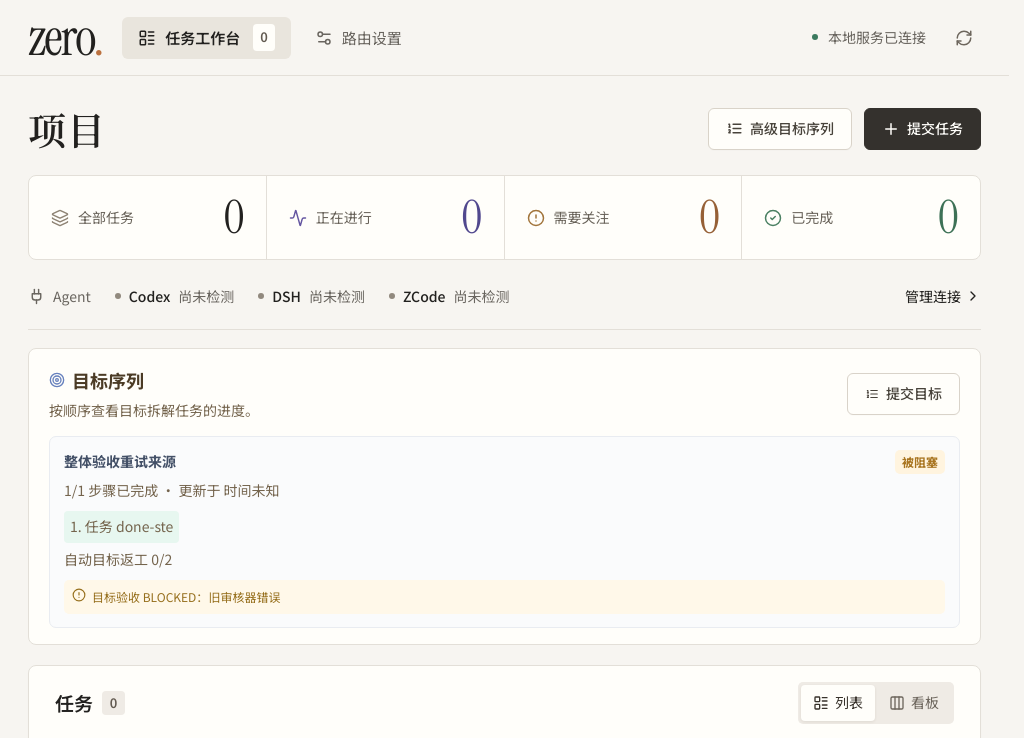
isolates concurrent retry response order: old503-first
The width and height of the screenshot is (1024, 738).
Click the button "整体验收重试来源" at (504, 532), box x1=49 y1=436 x2=960 y2=628
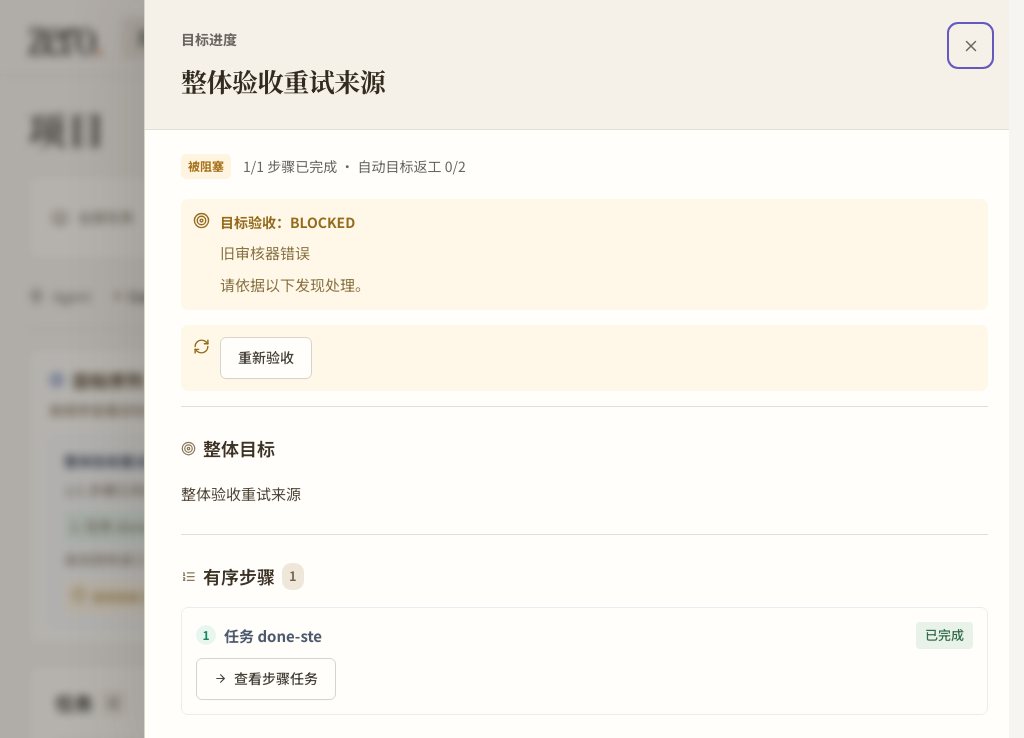
Click the button "重新验收" at (266, 358), box x1=220 y1=337 x2=312 y2=379
Wait 9000 ms
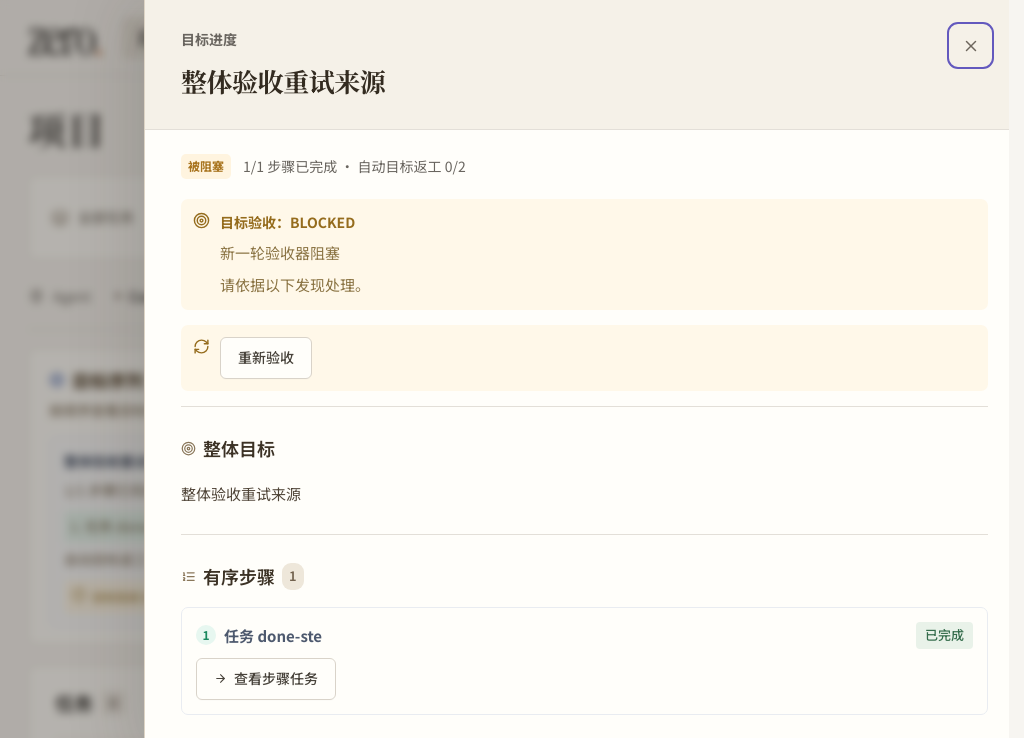
Click the button "重新验收" at (266, 358), box x1=220 y1=337 x2=312 y2=379
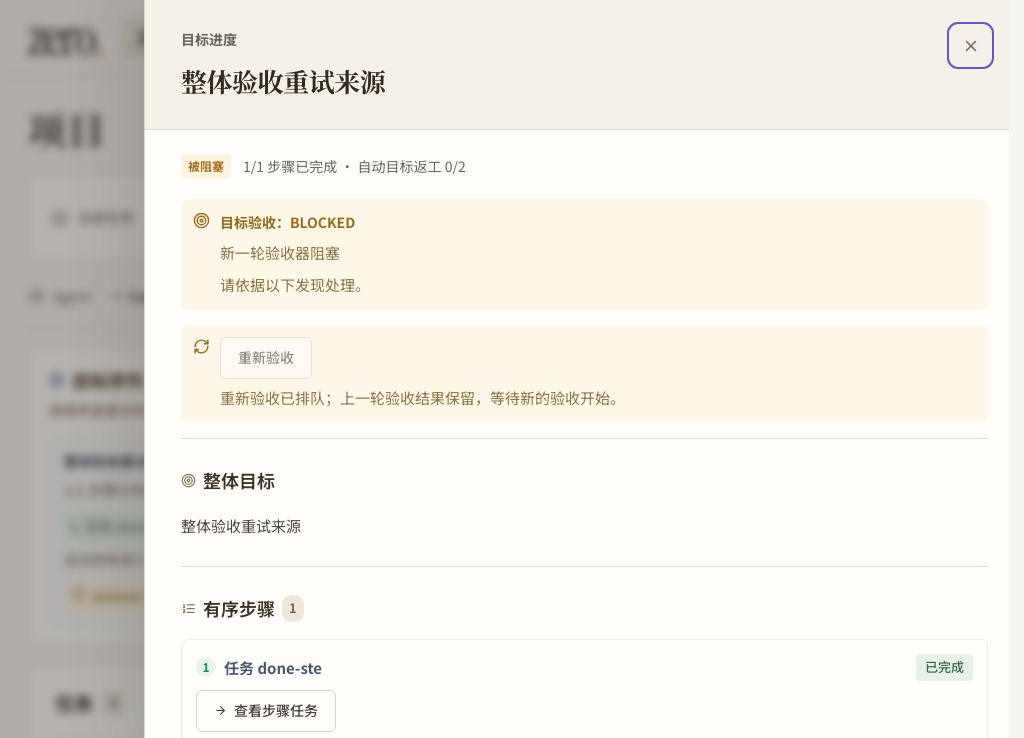
Now the button named "正在提交重新验收…" is disabled, box x1=220 y1=337 x2=312 y2=379
Now the message shows "重新验收已排队", box x1=220 y1=387 x2=625 y2=408
Now the button "重新验收" is disabled, box x1=220 y1=337 x2=312 y2=379
